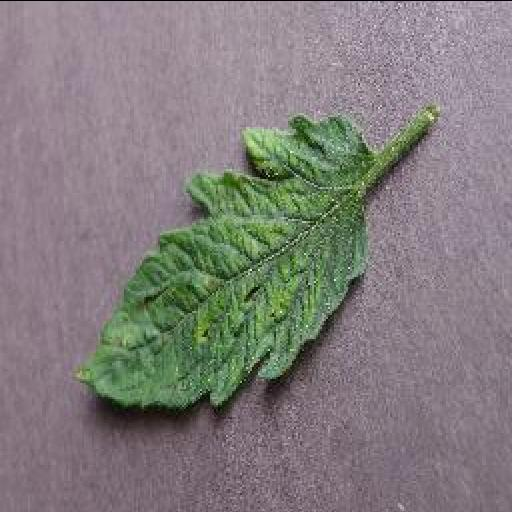Mosaic Virus: (67, 110, 373, 410)
